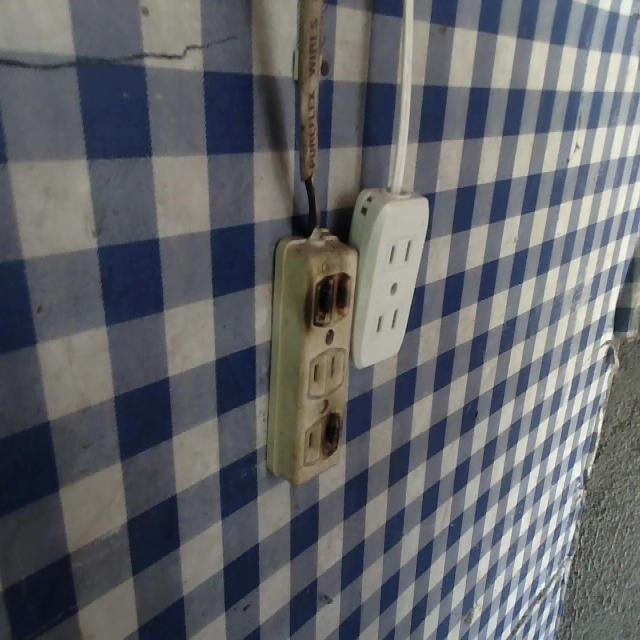-: (304, 269, 355, 328), (318, 410, 347, 462)
